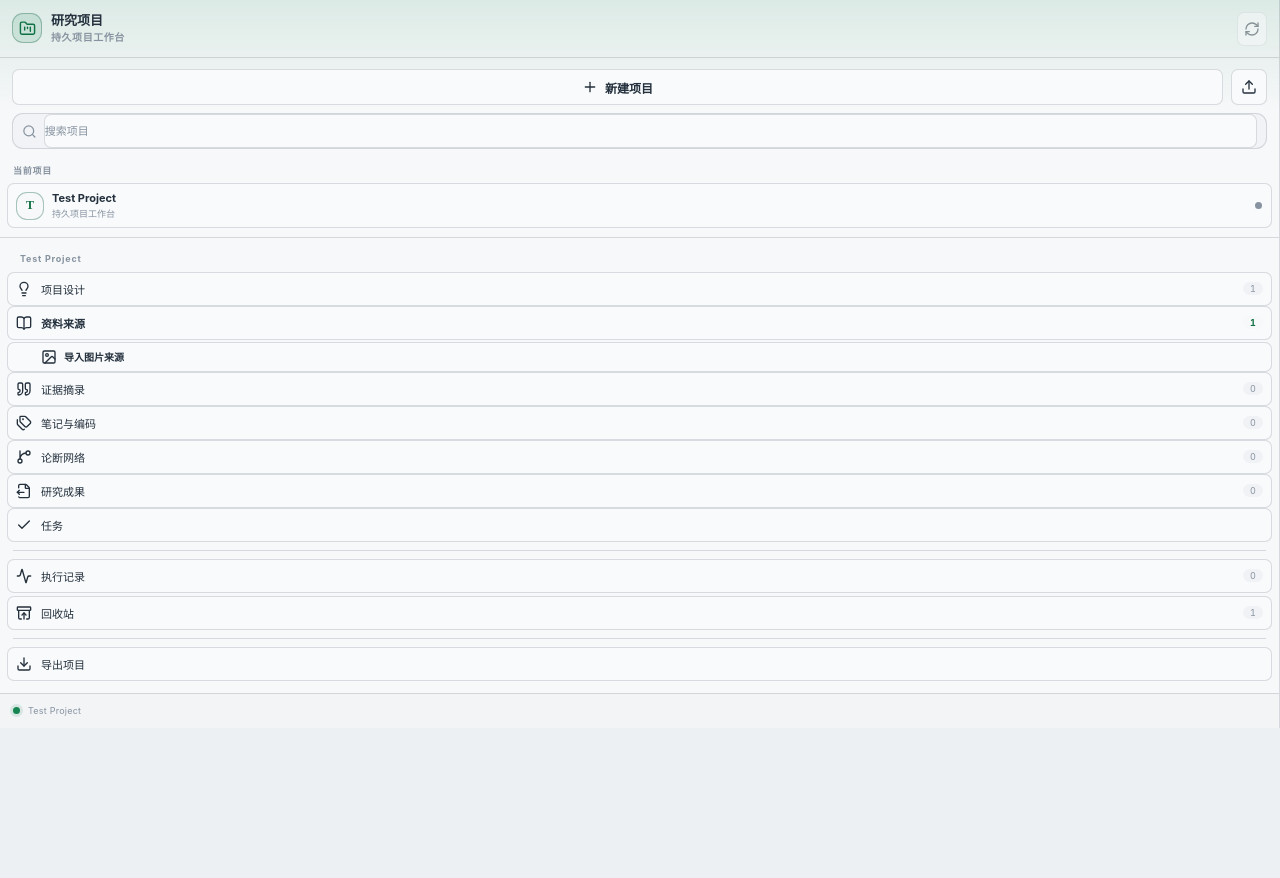
it: MEDIA-304 Phase B — capability contract (audit A) › accepts only readable file capabilities from selectFileCapability
Click the button "导入图片来源" at (94, 357), box left=7, top=342, right=1272, bottom=372
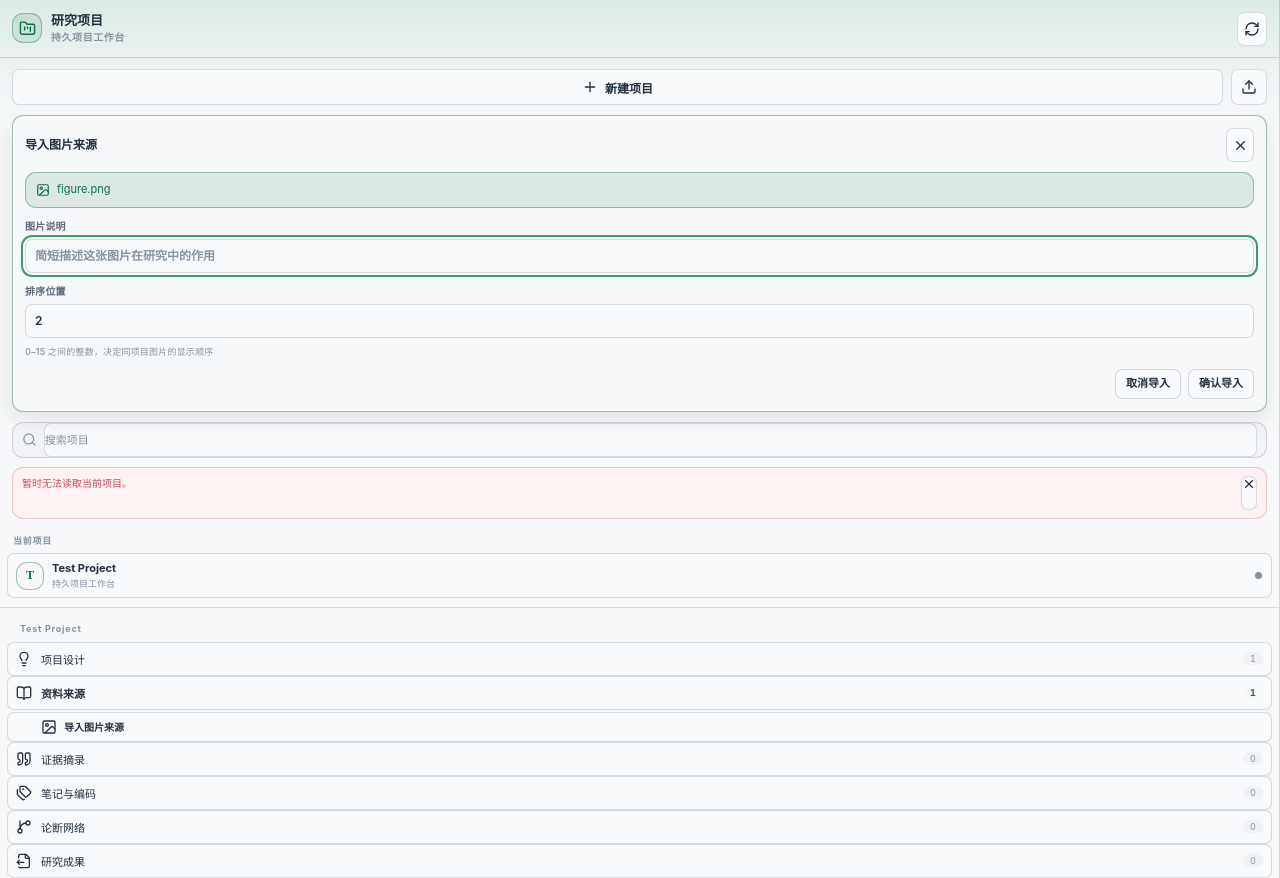
Expected: the form is shown, left=12, top=115, right=1267, bottom=412
